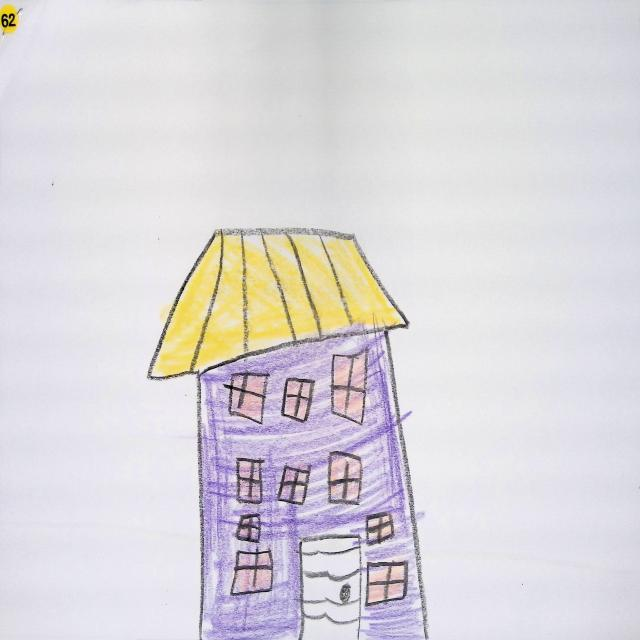door: (301, 537, 362, 640)
house: (149, 229, 428, 640)
roof: (150, 229, 408, 378)
wall: (197, 329, 435, 640)
window: (332, 352, 368, 424), (224, 373, 269, 424), (231, 552, 272, 596), (367, 563, 407, 606), (329, 453, 362, 504), (282, 379, 315, 422), (278, 466, 310, 506), (237, 459, 264, 504), (367, 513, 395, 546), (236, 516, 260, 544)
